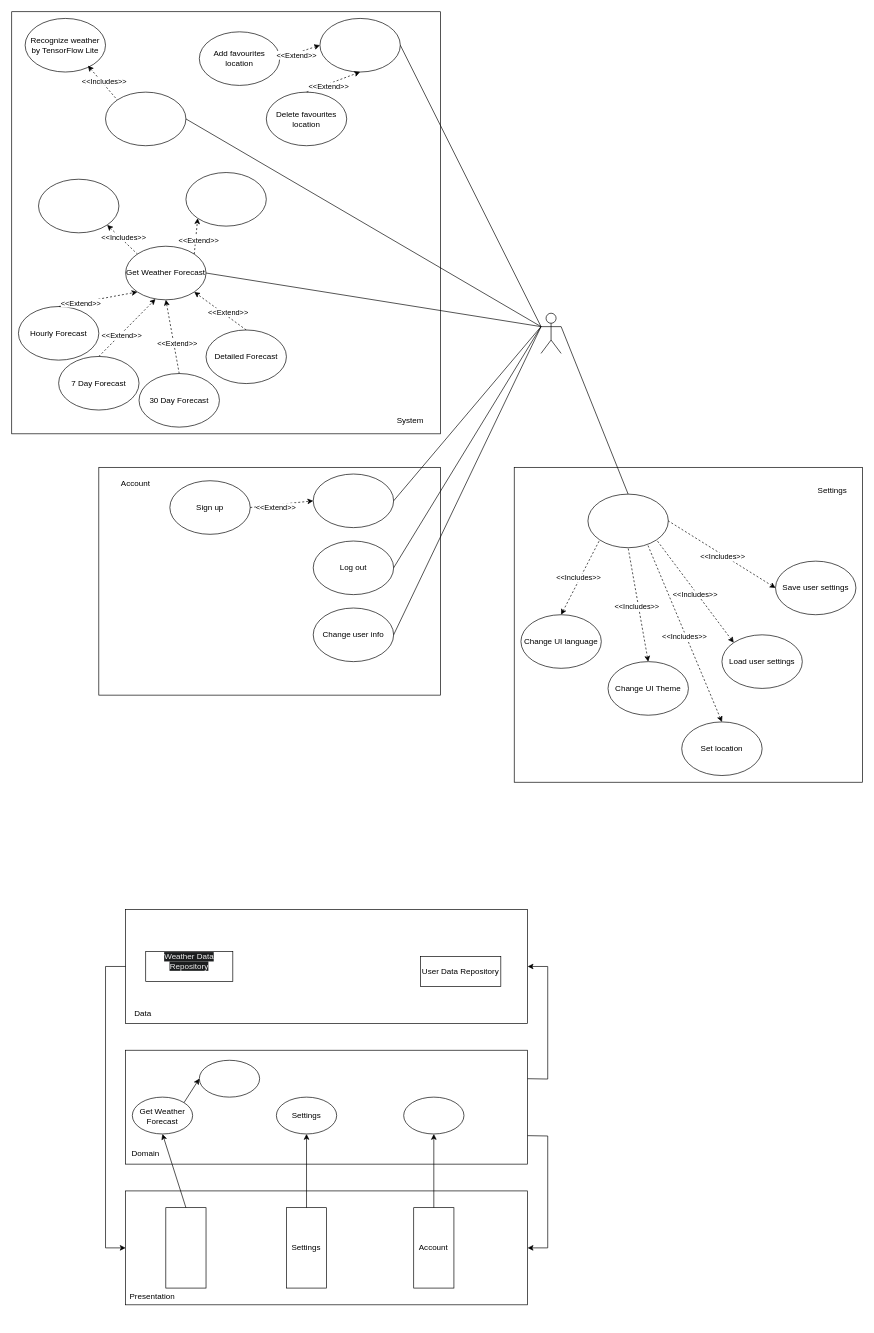
Image size: 874x1333. Some labels were removed from this diagram. Each missing label, with the centre of its shape:
"Actor" goes at point 550,333.
"Authentication" goes at point 433,1115.
"Configure Settings" goes at point 627,520.
"Get favourites location" goes at point 359,45.
"Home" goes at point 185,1247.
"Load weather from service" goes at point 78,206.
"Log in" goes at point 353,500.
"Search Location`s Weather" goes at point 225,199.
"Search weather by image" goes at point 145,118.
"Weather by TensorFlow Lite" goes at point 229,1078.
